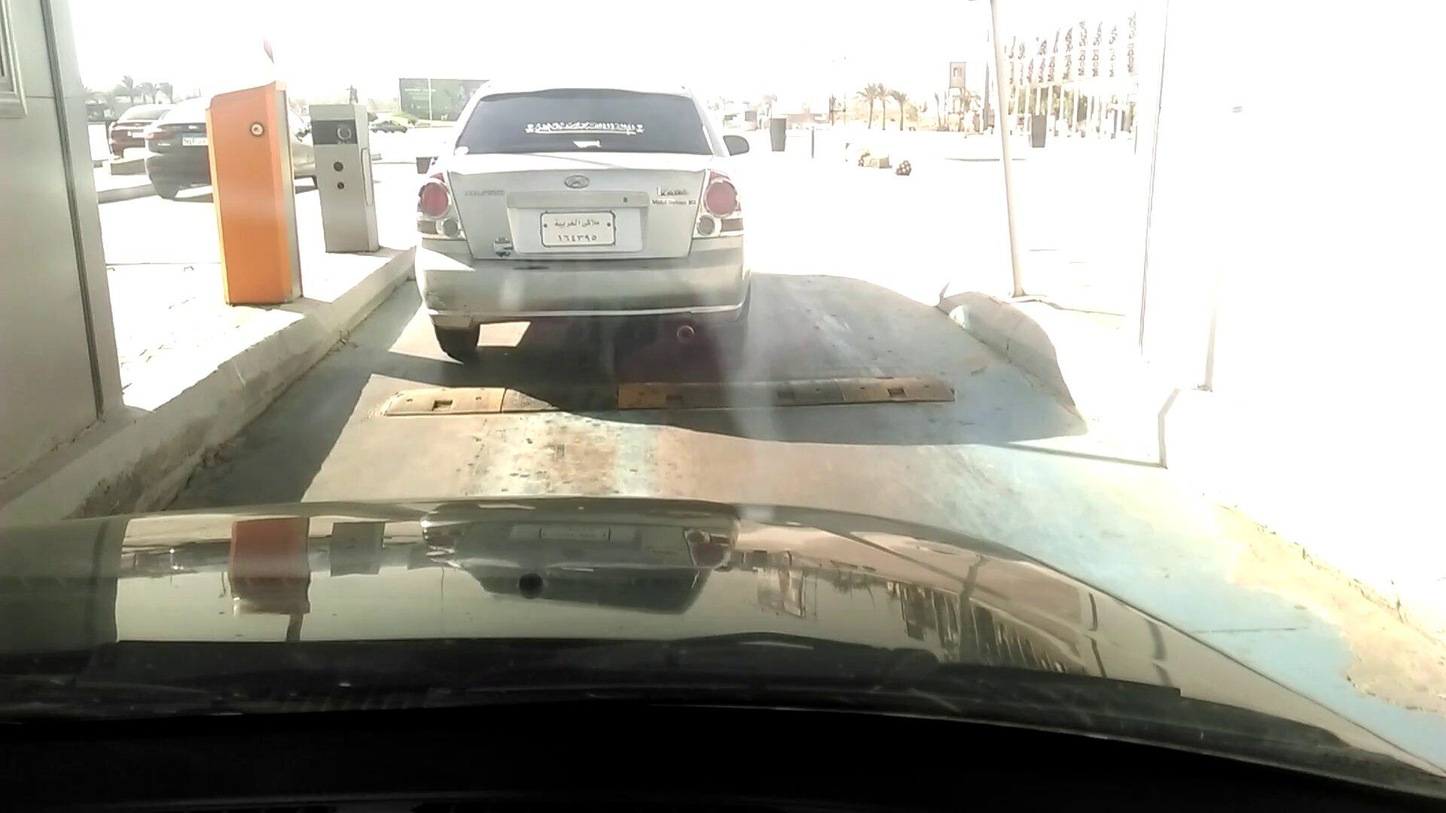Bump: (377, 380, 985, 425)
